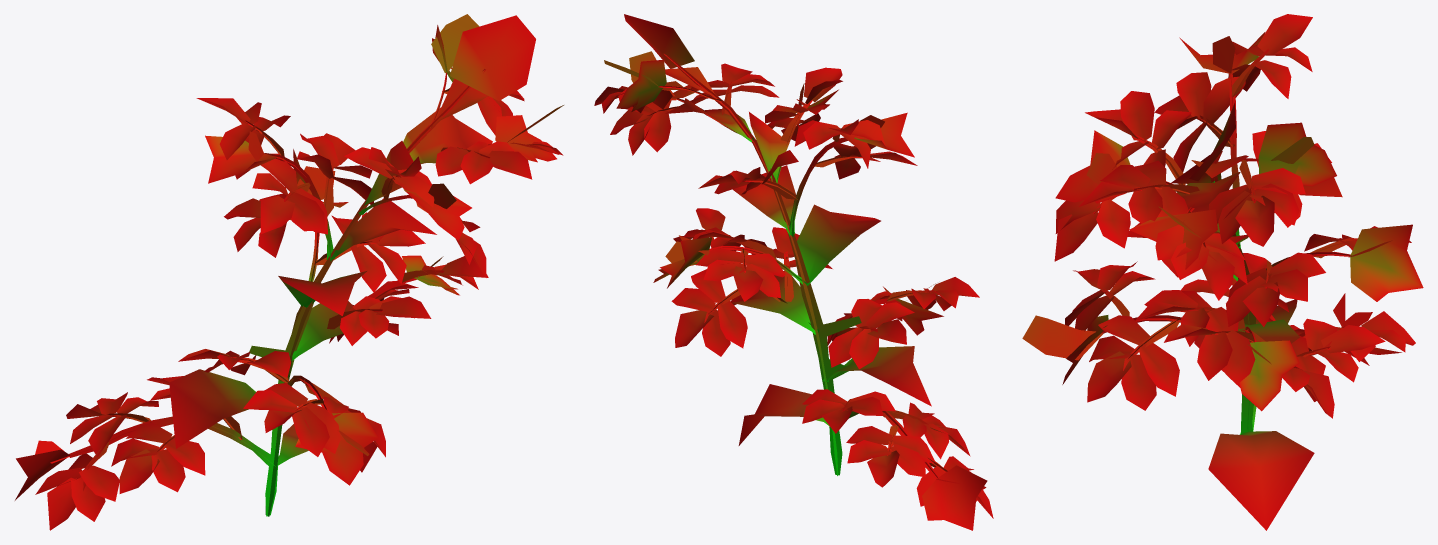
The model's file is Blackberry_LOD2_Var5_vkmofctha.fbx.
The picture shows the model from 3 angles, left to right: view 1: azimuth 30°, elevation 25°; view 2: azimuth 150°, elevation 25°; view 3: azimuth 270°, elevation 25°; orthographic projection. The views are drawn at different scales.
Parts seen in each view (by area): view 1: _8pqj_Var5_LOD2; view 2: _8pqj_Var5_LOD2; view 3: _8pqj_Var5_LOD2.
Part boxes in pixels (x1,y1,x2,y2): _8pqj_Var5_LOD2: (15,14,563,530); _8pqj_Var5_LOD2: (594,14,993,530); _8pqj_Var5_LOD2: (1022,14,1423,530).
Bounding box in the file's own units: 86.05 × 77.26 × 57.07.
